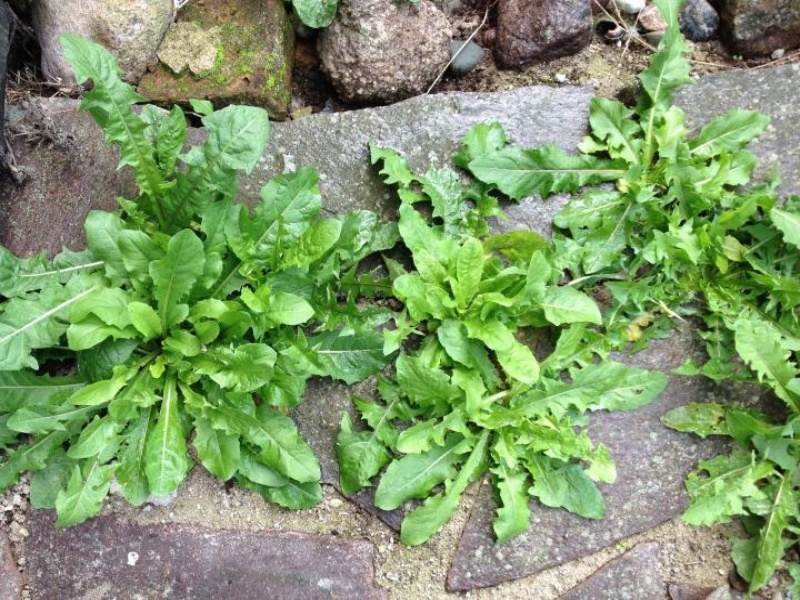weed: (19, 175, 326, 467), (560, 89, 746, 274), (409, 361, 614, 515), (389, 212, 571, 369)
